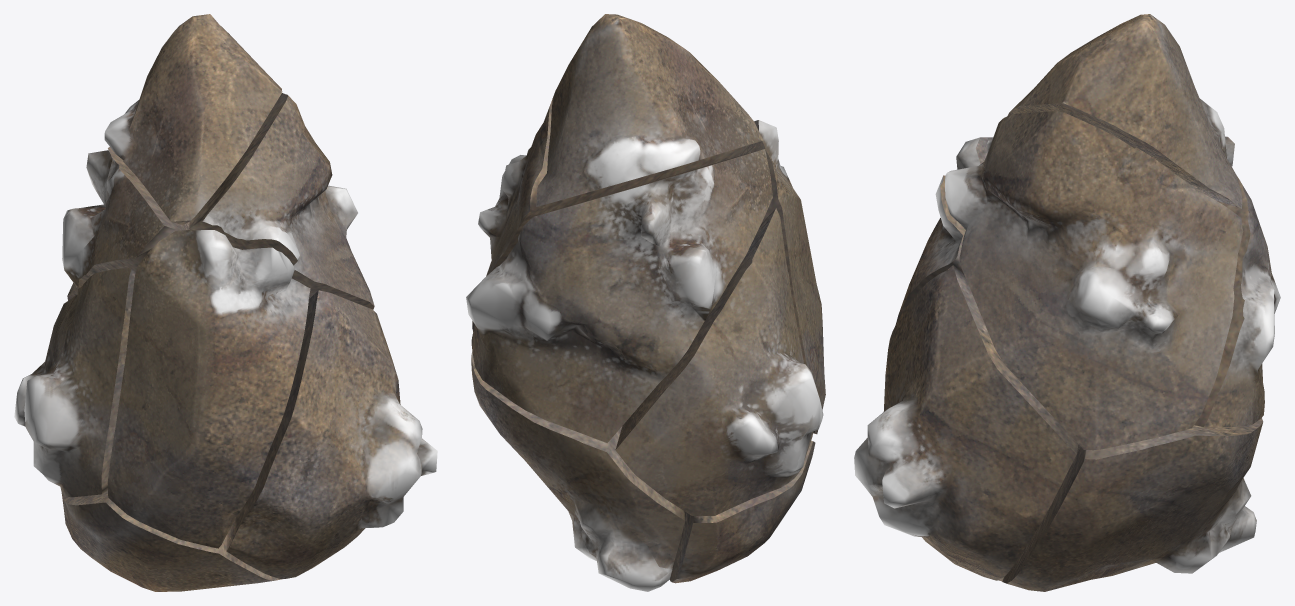
File: SM_MetalNode_3a_Pieces.fbx
3 views of the same model, side by side, from view 1: azimuth 30°, elevation 25°; view 2: azimuth 150°, elevation 25°; view 3: azimuth 270°, elevation 25° (orthographic). The views are drawn at different scales.
Parts seen in each view (by area): view 1: SM_MetalNode_3a_Pieces_cell_3, SM_MetalNode_3a_Pieces_cell_7, SM_MetalNode_3a_Pieces_cell_5, SM_MetalNode_3a_Pieces_cell_8, SM_MetalNode_3a_Pieces_cell_1, SM_MetalNode_3a_Pieces_cell_2, SM_MetalNode_3a_Pieces_cell_4; view 2: SM_MetalNode_3a_Pieces_cell_4, SM_MetalNode_3a_Pieces_cell_1, SM_MetalNode_3a_Pieces_cell_5, SM_MetalNode_3a_Pieces_cell_6, SM_MetalNode_3a_Pieces_cell_2, SM_MetalNode_3a_Pieces_cell_8, SM_MetalNode_3a_Pieces_cell_3; view 3: SM_MetalNode_3a_Pieces_cell_8, SM_MetalNode_3a_Pieces_cell_7, SM_MetalNode_3a_Pieces_cell_6, SM_MetalNode_3a_Pieces_cell_5, SM_MetalNode_3a_Pieces_cell_4, SM_MetalNode_3a_Pieces_cell_3.
Part boxes in pixels (bbox=[...]): SM_MetalNode_3a_Pieces_cell_3: bbox=[107, 229, 310, 548]; SM_MetalNode_3a_Pieces_cell_7: bbox=[226, 290, 437, 578]; SM_MetalNode_3a_Pieces_cell_5: bbox=[104, 14, 282, 225]; SM_MetalNode_3a_Pieces_cell_8: bbox=[189, 93, 374, 309]; SM_MetalNode_3a_Pieces_cell_1: bbox=[14, 267, 135, 497]; SM_MetalNode_3a_Pieces_cell_2: bbox=[61, 490, 282, 591]; SM_MetalNode_3a_Pieces_cell_4: bbox=[62, 147, 189, 300]; SM_MetalNode_3a_Pieces_cell_4: bbox=[466, 149, 772, 442]; SM_MetalNode_3a_Pieces_cell_1: bbox=[615, 208, 823, 515]; SM_MetalNode_3a_Pieces_cell_5: bbox=[536, 14, 763, 206]; SM_MetalNode_3a_Pieces_cell_6: bbox=[471, 351, 685, 591]; SM_MetalNode_3a_Pieces_cell_2: bbox=[669, 440, 815, 583]; SM_MetalNode_3a_Pieces_cell_8: bbox=[472, 90, 745, 331]; SM_MetalNode_3a_Pieces_cell_3: bbox=[736, 120, 825, 434]; SM_MetalNode_3a_Pieces_cell_8: bbox=[945, 111, 1243, 450]; SM_MetalNode_3a_Pieces_cell_7: bbox=[854, 265, 1078, 580]; SM_MetalNode_3a_Pieces_cell_6: bbox=[1002, 418, 1263, 591]; SM_MetalNode_3a_Pieces_cell_5: bbox=[1007, 14, 1242, 208]; SM_MetalNode_3a_Pieces_cell_4: bbox=[1194, 136, 1280, 427]; SM_MetalNode_3a_Pieces_cell_3: bbox=[896, 137, 993, 323].
Size of the model in its own units: 0.8617 by 1.39 by 0.9252.
